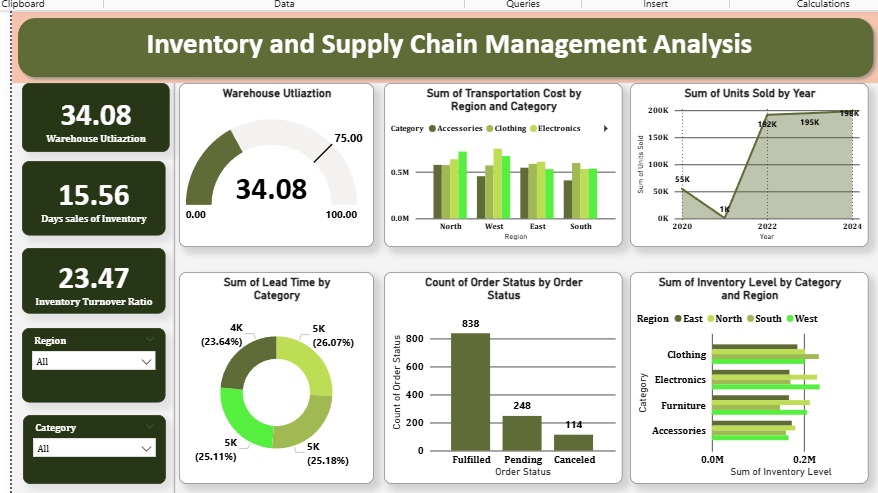

Layout of this report page (visuals, bound fields, positions):
{"tool":"powerbi","page":{"name":"Page 1","canvas":[1280,720],"ordinal":0},"visuals":[{"type":"shape","box":[0,2.9,1269.6,104.3],"z":0},{"type":"textbox","box":[169.6,17.4,940.6,75.4],"z":1000},{"type":"shape","box":[231.9,107.2,13,613],"z":2000},{"type":"card","fields":{"Values":["Inventory Supply Chain Dataset.Warehouse Utliaztion"]},"box":[14.9,107.5,216.4,101.5],"z":3000},{"type":"card","fields":{"Values":["Inventory Supply Chain Dataset.Days sales of Inventory"]},"box":[14.9,220.9,210.4,109],"z":4000},{"type":"card","fields":{"Values":["Inventory Supply Chain Dataset.Inventory Turnover Ratio"]},"box":[14.9,347.8,210.4,95.5],"z":5000},{"type":"slicer","fields":{"Values":["Inventory Supply Chain Dataset.Region"]},"box":[14.9,465.7,210.4,109],"z":6000},{"type":"slicer","fields":{"Values":["Inventory Supply Chain Dataset.Category"]},"box":[16.4,592.5,209,101.5],"z":7000},{"type":"gauge","fields":{"Y":["Inventory Supply Chain Dataset.Warehouse Utliaztion"]},"box":[244.8,107.5,285.1,240.3],"z":8000},{"type":"clusteredColumnChart","fields":{"Y":["Sum(Inventory Supply Chain Dataset.Transportation Cost)"],"Category":["Inventory Supply Chain Dataset.Region"],"Series":["Inventory Supply Chain Dataset.Category"]},"box":[544.8,107.5,349.3,240.3],"z":9000},{"type":"lineChart","fields":{"Y":["Sum(Inventory Supply Chain Dataset.Units Sold)"],"Category":["Inventory Supply Chain Dataset.Date.Variation.Date Hierarchy.Year"]},"box":[904.5,107.5,349.3,240.3],"z":10000},{"type":"donutChart","fields":{"Category":["Inventory Supply Chain Dataset.Category"],"Y":["Sum(Inventory Supply Chain Dataset.Lead Time)"]},"box":[244.8,383.6,285.1,310.4],"z":11000},{"type":"columnChart","fields":{"Y":["CountNonNull(Inventory Supply Chain Dataset.Order Status)"],"Category":["Inventory Supply Chain Dataset.Order Status"]},"box":[544.8,383.6,349.3,310.4],"z":12000},{"type":"clusteredBarChart","fields":{"Category":["Inventory Supply Chain Dataset.Category"],"Y":["Sum(Inventory Supply Chain Dataset.Inventory Level)"],"Series":["Inventory Supply Chain Dataset.Region"]},"box":[904,384,349,310],"z":13000}]}

Visuals, with their boxes in screenshot pixels (x1, y1, x2, y2):
shape: {"x1": 11, "y1": 16, "x2": 870, "y2": 86}
textbox: {"x1": 126, "y1": 25, "x2": 762, "y2": 76}
shape: {"x1": 168, "y1": 86, "x2": 177, "y2": 492}
card - Inventory Supply Chain Dataset.Warehouse Utliaztion: {"x1": 22, "y1": 86, "x2": 168, "y2": 155}
card - Inventory Supply Chain Dataset.Days sales of Inventory: {"x1": 22, "y1": 163, "x2": 164, "y2": 237}
card - Inventory Supply Chain Dataset.Inventory Turnover Ratio: {"x1": 22, "y1": 249, "x2": 164, "y2": 314}
slicer - Inventory Supply Chain Dataset.Region: {"x1": 22, "y1": 329, "x2": 164, "y2": 402}
slicer - Inventory Supply Chain Dataset.Category: {"x1": 23, "y1": 415, "x2": 164, "y2": 483}
gauge - Inventory Supply Chain Dataset.Warehouse Utliaztion: {"x1": 177, "y1": 86, "x2": 370, "y2": 249}
clusteredColumnChart - Sum(Inventory Supply Chain Dataset.Transportation Cost) x Inventory Supply Chain Dataset.Region: {"x1": 380, "y1": 86, "x2": 616, "y2": 249}
lineChart - Sum(Inventory Supply Chain Dataset.Units Sold) x Inventory Supply Chain Dataset.Date.Variation.Date Hierarchy.Year: {"x1": 623, "y1": 86, "x2": 860, "y2": 249}
donutChart - Inventory Supply Chain Dataset.Category x Sum(Inventory Supply Chain Dataset.Lead Time): {"x1": 177, "y1": 273, "x2": 370, "y2": 483}
columnChart - CountNonNull(Inventory Supply Chain Dataset.Order Status) x Inventory Supply Chain Dataset.Order Status: {"x1": 380, "y1": 273, "x2": 616, "y2": 483}
clusteredBarChart - Inventory Supply Chain Dataset.Category x Sum(Inventory Supply Chain Dataset.Inventory Level): {"x1": 623, "y1": 273, "x2": 859, "y2": 483}
